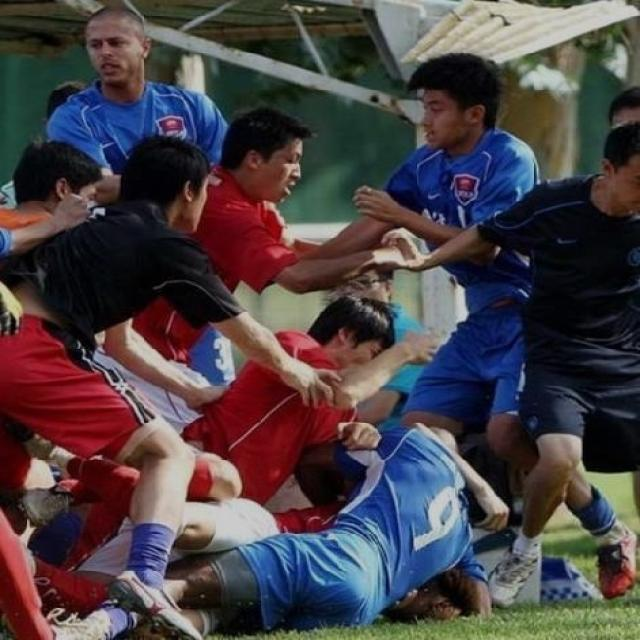fight: (106, 52, 640, 599), (0, 131, 342, 640), (58, 298, 510, 640), (364, 126, 640, 604)
